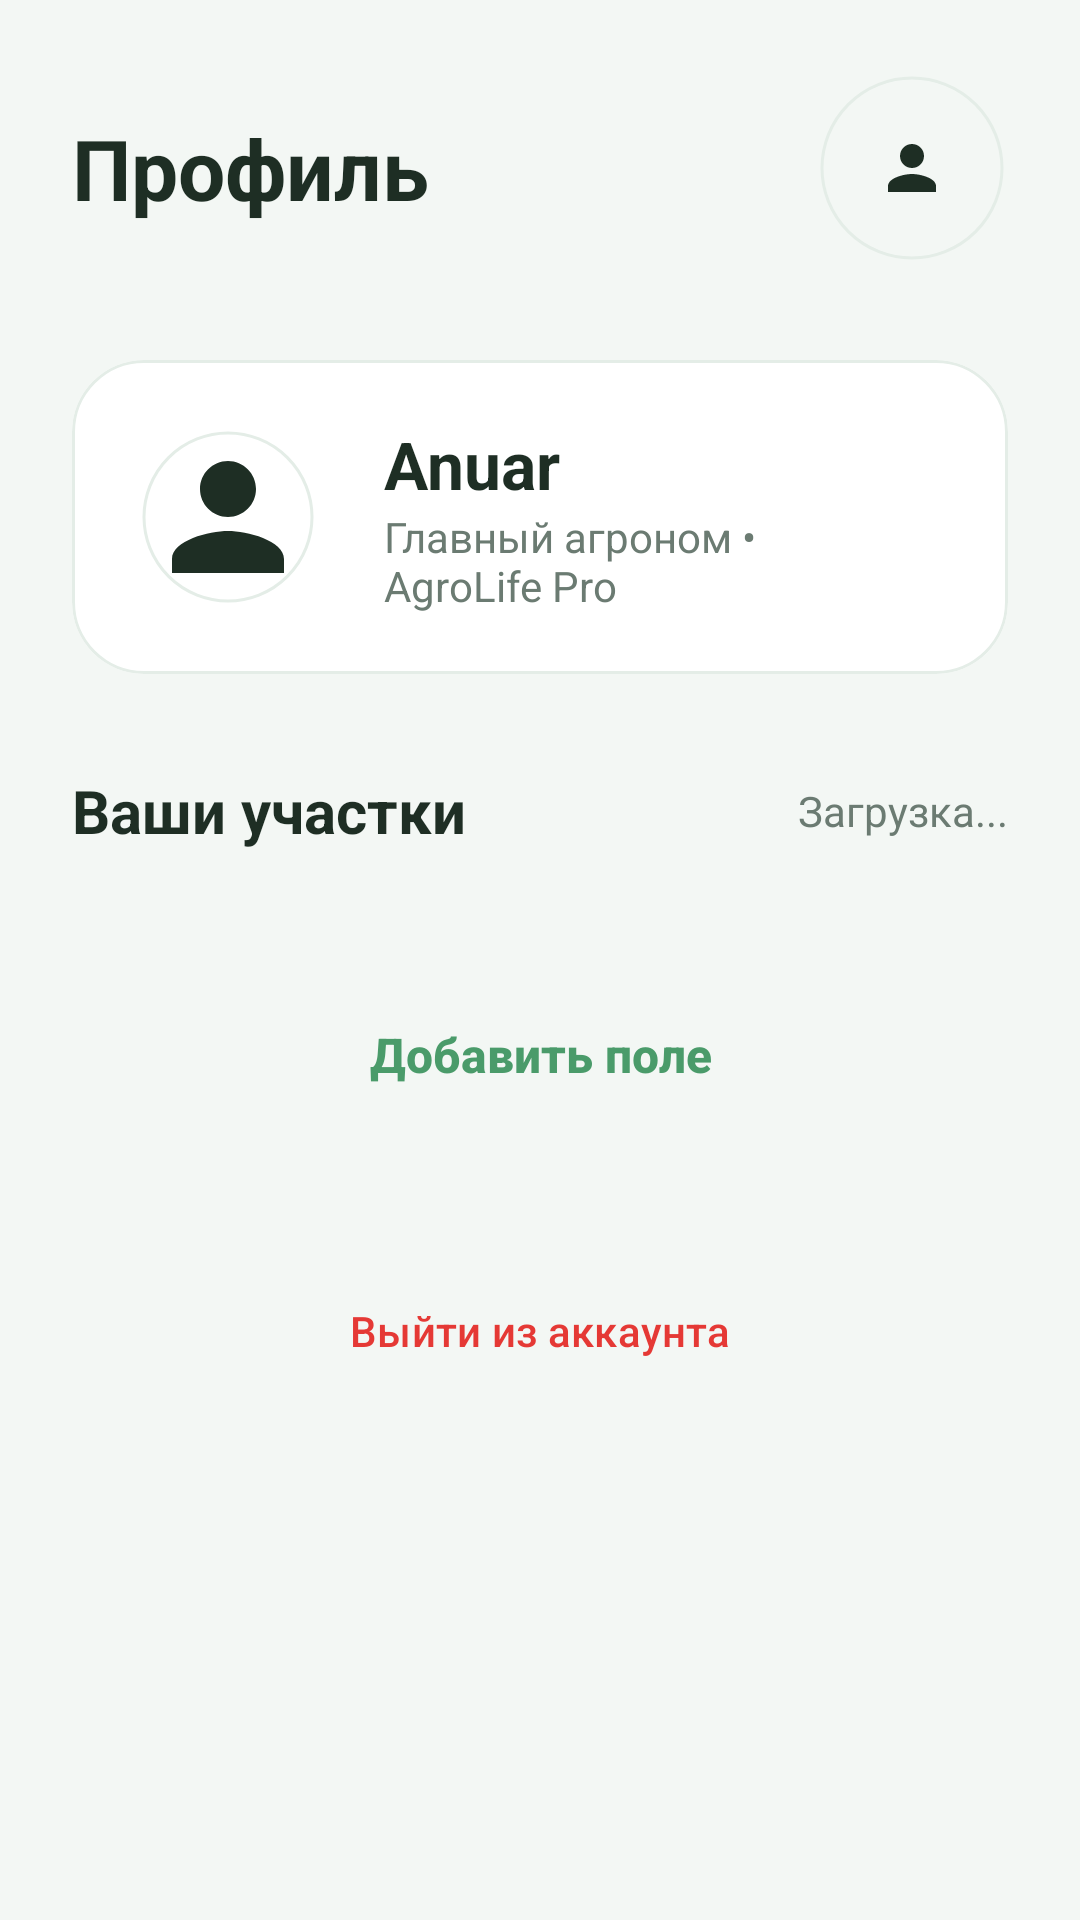

Icons on this 1080*1920 Android screen, each with the point to tap as [x,y]:
profile: [912,168], [228,517]
